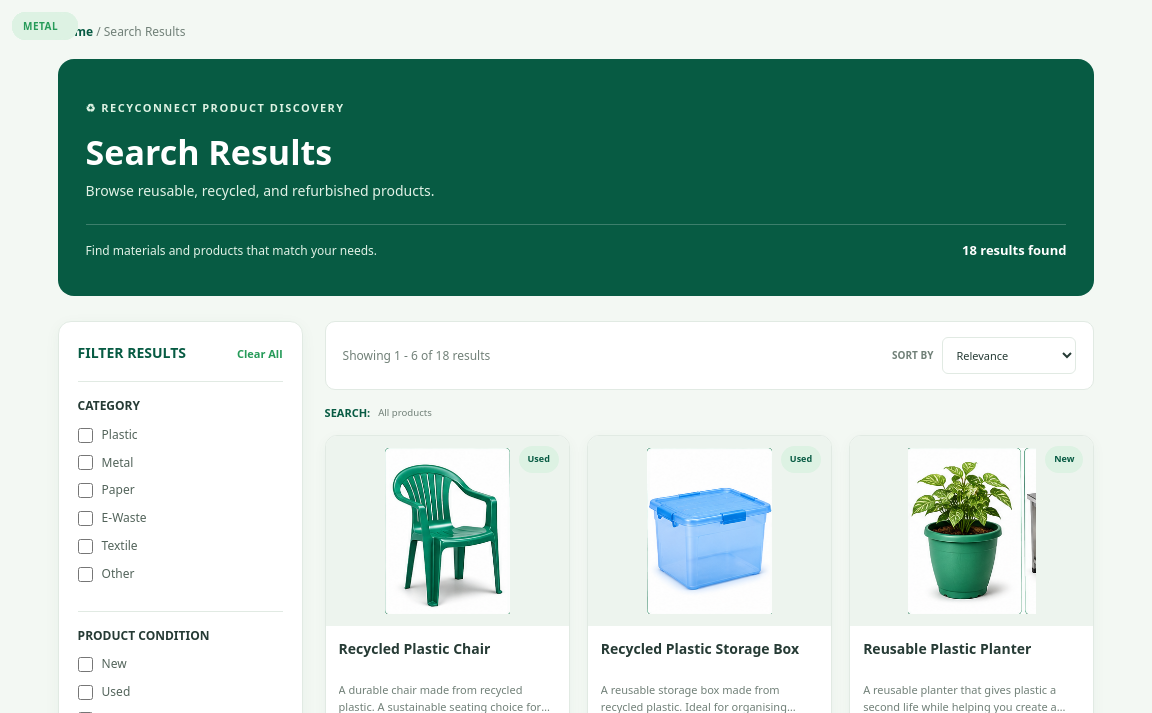
SearchResults Component › allows selecting a product condition
Click the checkbox labelled "Used".
click(85, 692)  # box [78, 685, 93, 700]
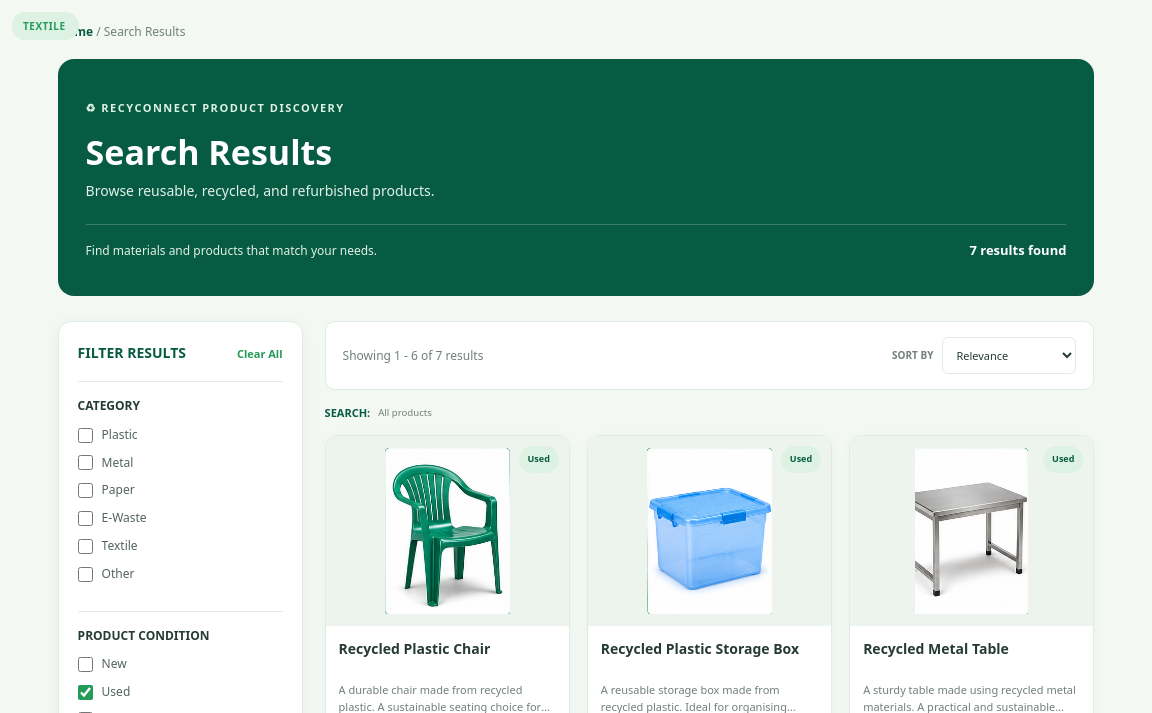
Expected: the checkbox labelled "Used" is checked, [78, 685, 93, 700]
